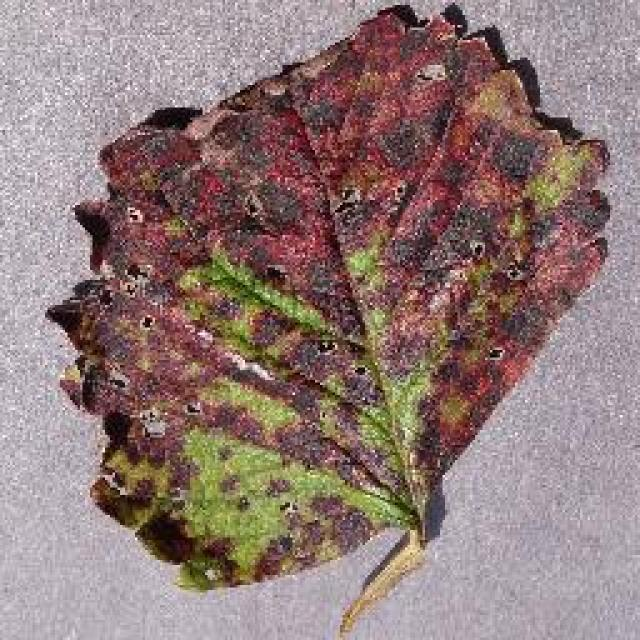Strawberry___Leaf_scorch: (30, 0, 628, 640)
